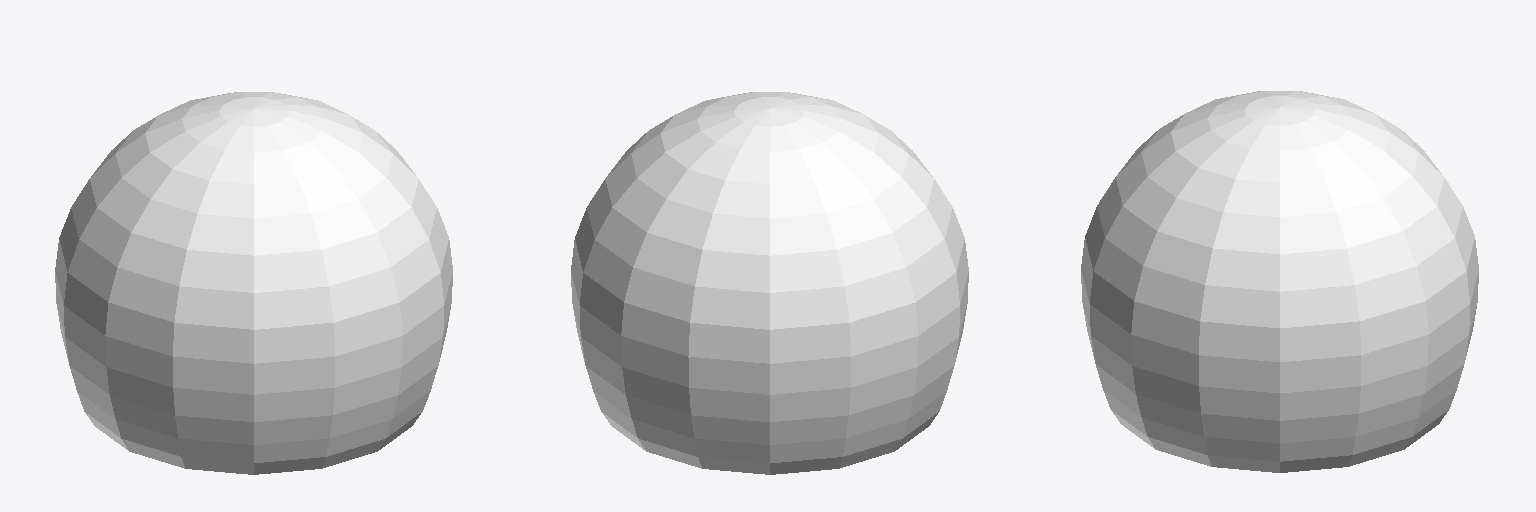
The model's file is SimpleDroplet.obj.
The picture shows the model from 3 angles: view 1: azimuth 30°, elevation 25°; view 2: azimuth 150°, elevation 25°; view 3: azimuth 270°, elevation 25°; orthographic projection.
Size of the model in its own units: 1.98 by 1.63 by 1.99.